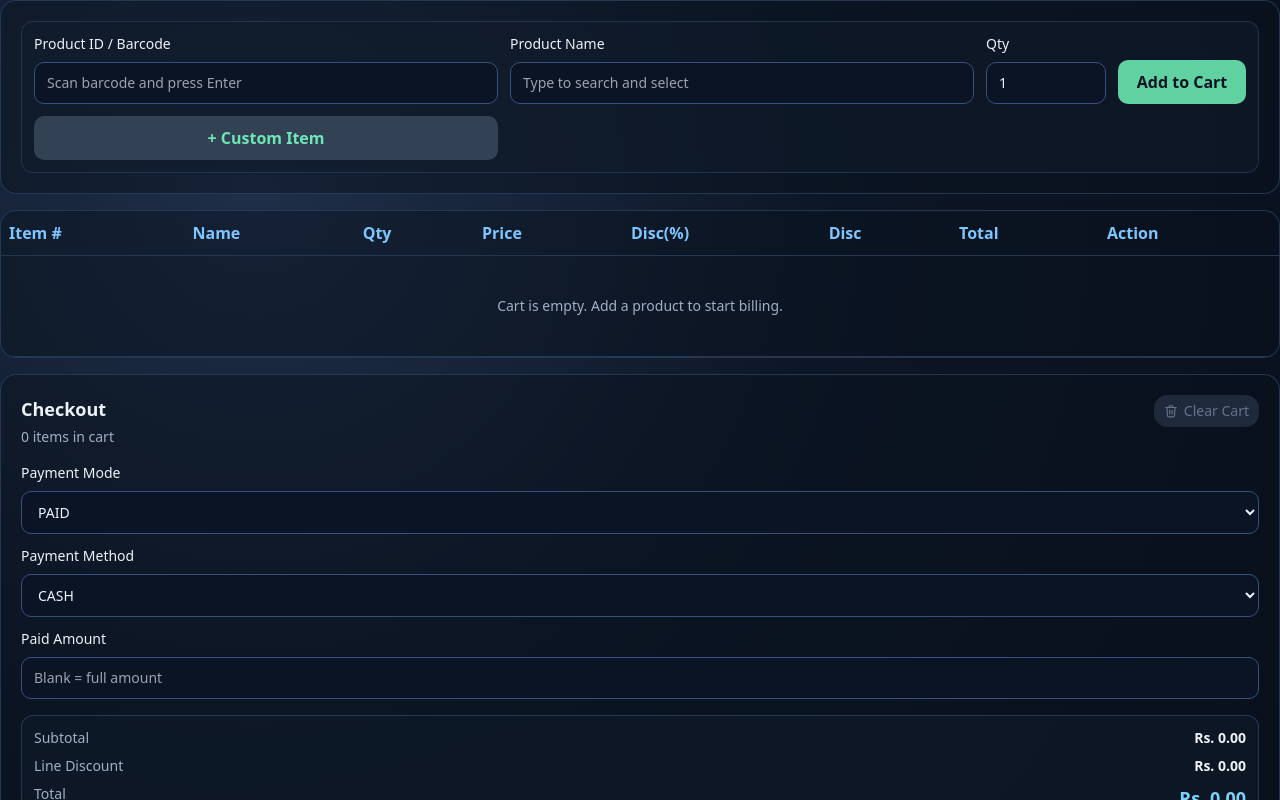
BillingTab › shows warning and blocks adding when stock is zero
The width and height of the screenshot is (1280, 800).
Type "P001" into the field labelled "Product ID / Barcode" at point(266, 83), box [34, 62, 498, 104]
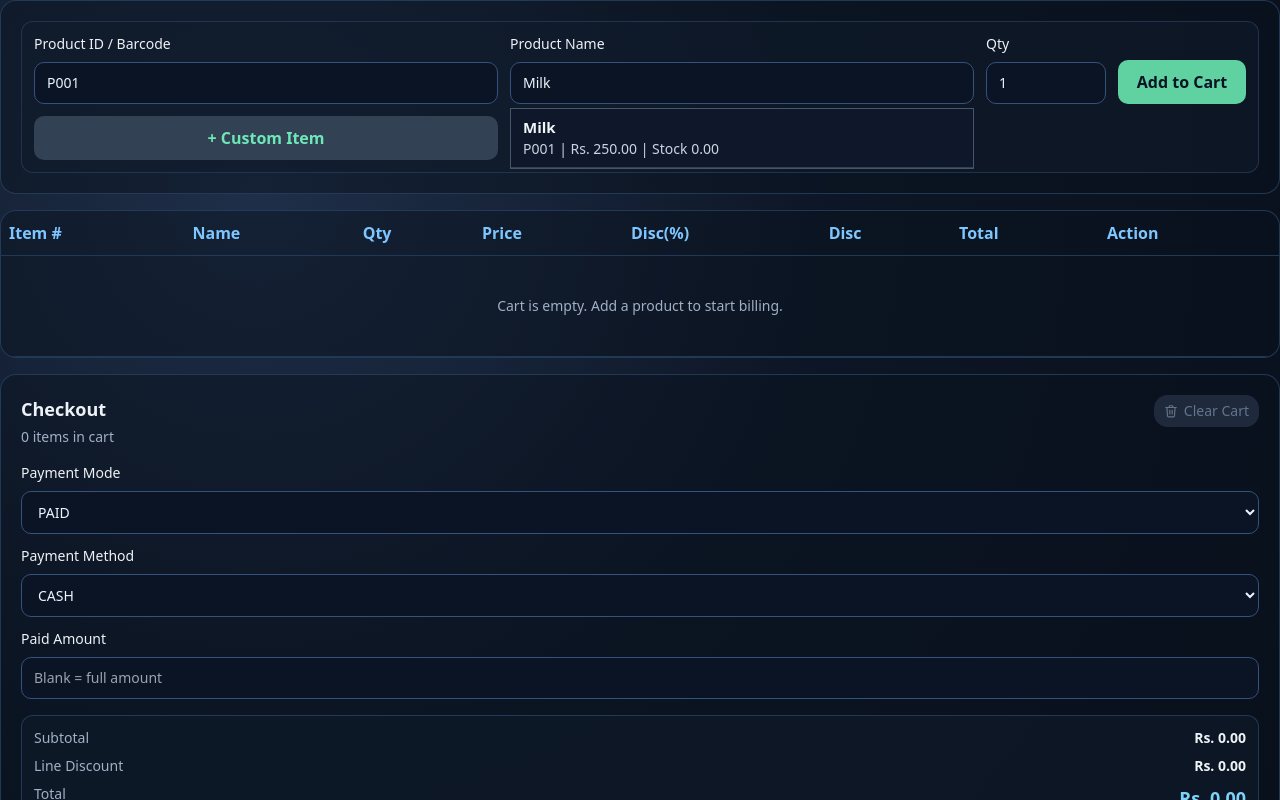
Click the button "Add to Cart" at point(1182, 82), box [1118, 60, 1246, 104]
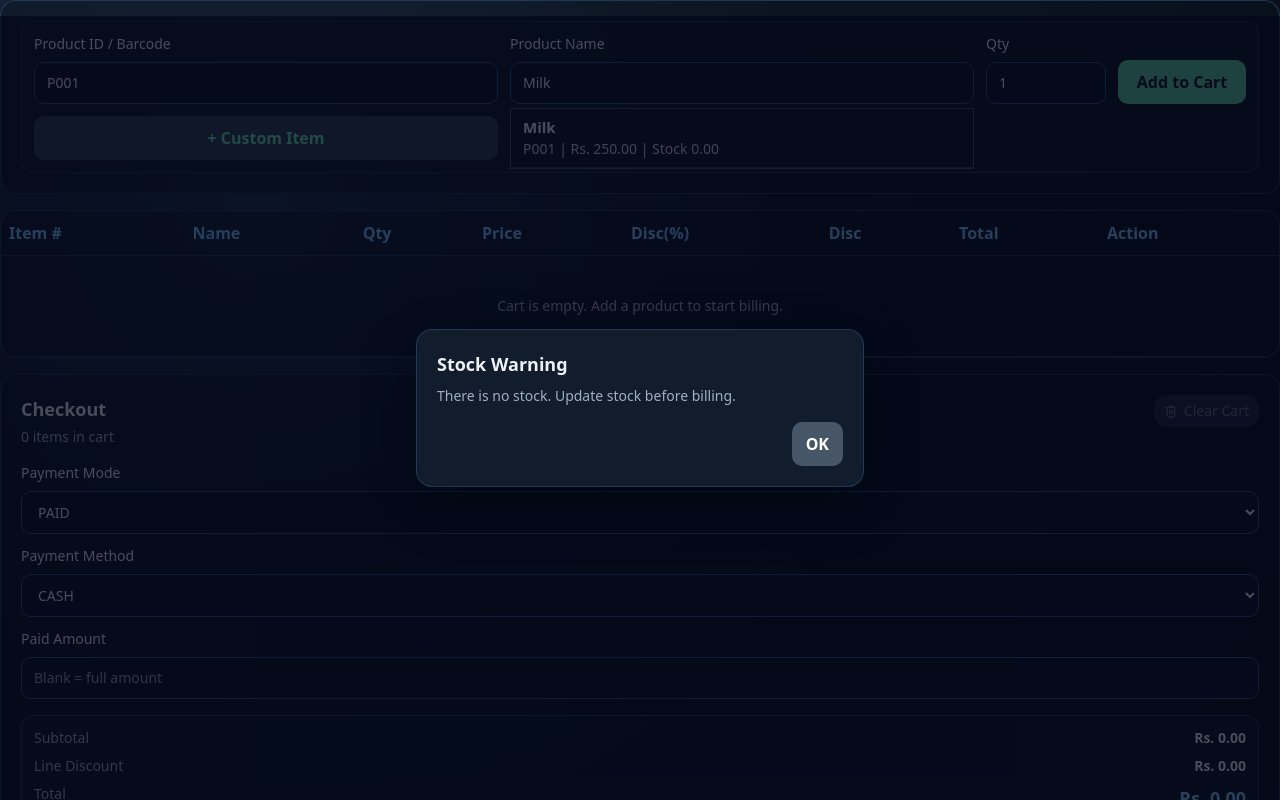
Expected: the dialog "Stock Warning" is shown
Expected: the text "There is no stock. Update stock before billing." is shown, [437, 386, 736, 405]
